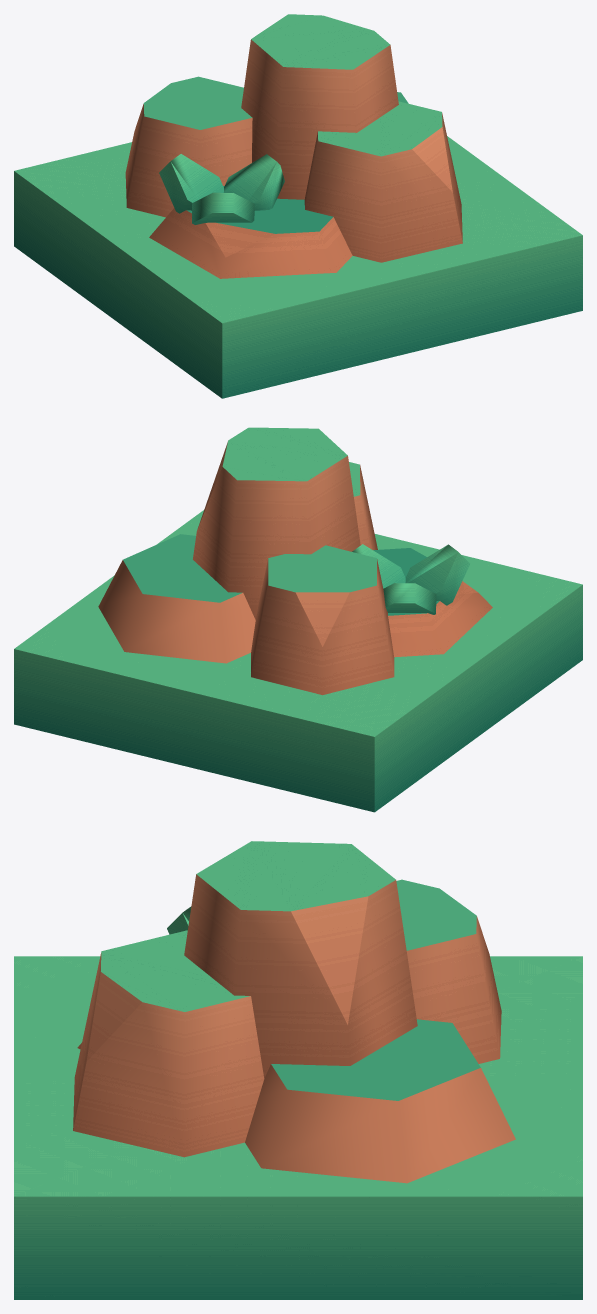
The model's file is tile-rock.glb.
3 views of the same model, one above another, from view 1: azimuth 30°, elevation 25°; view 2: azimuth 150°, elevation 25°; view 3: azimuth 270°, elevation 25° (orthographic). The views are drawn at different scales.
Visible parts, largest first — view 1: tile-rock; view 2: tile-rock; view 3: tile-rock.
Part boxes in pixels (x1,y1,x2,y2): tile-rock: [14, 14, 582, 398]; tile-rock: [14, 427, 582, 812]; tile-rock: [14, 841, 582, 1299].
Bounding box in the file's own units: 1 × 0.6145 × 1.
Materials: 1 (1 with a texture image).
